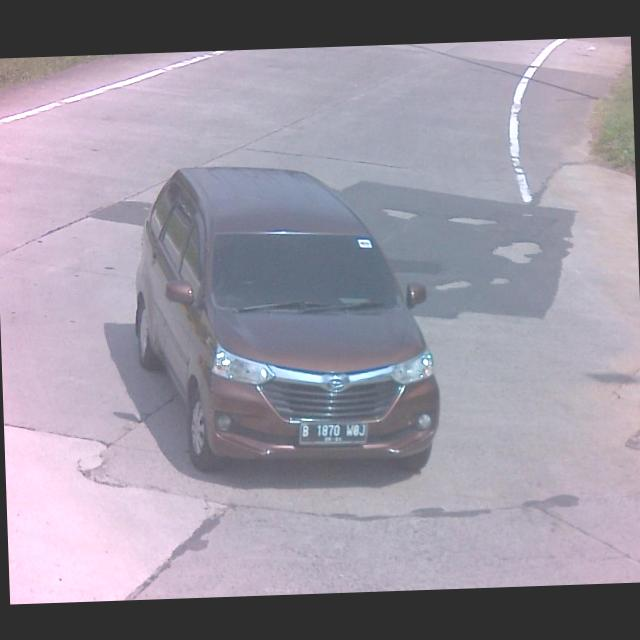plate: (299, 418, 367, 450)
